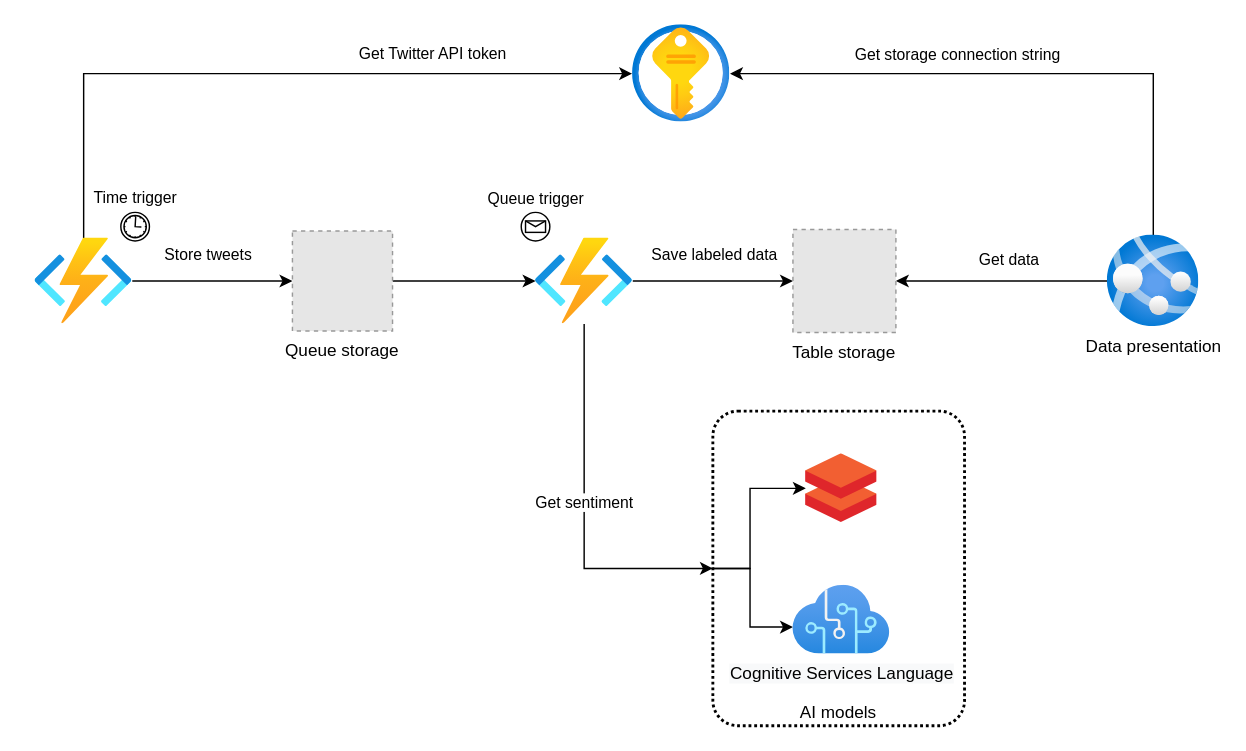
The diagram is 1246 pixels wide and 751 high, and some of its shapes have lost their labels. Grey dashed boxes stand in for pictures. Each missing label, with the centre of its shape:
"Custom AI model" goes at (841,487).
"Secret storage" goes at (680,73).
"Sentiment assignment" goes at (583,280).
"Tweets fetching" goes at (83,280).
